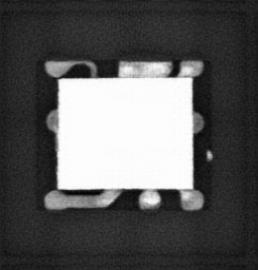DIE_INK: (204, 149, 215, 161)
